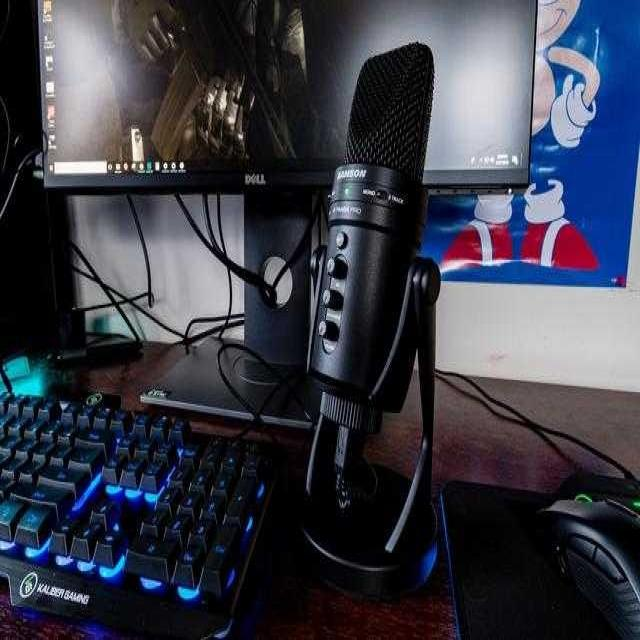microphone: (317, 43, 436, 424)
